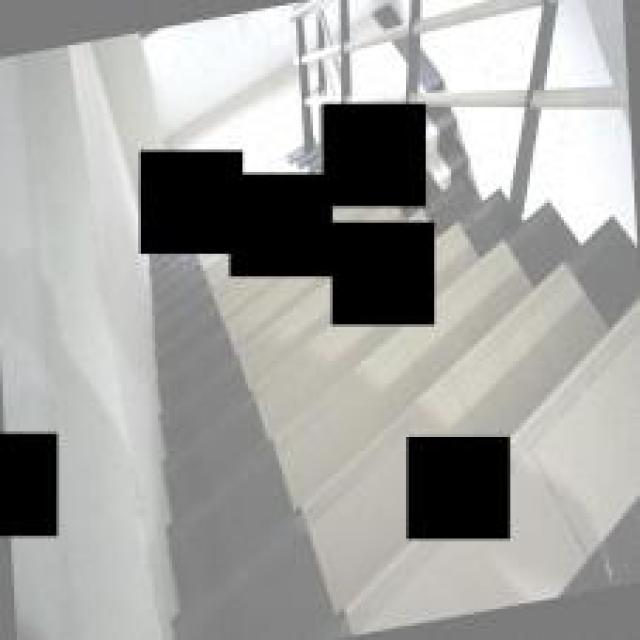downstair: (150, 347, 403, 640)
